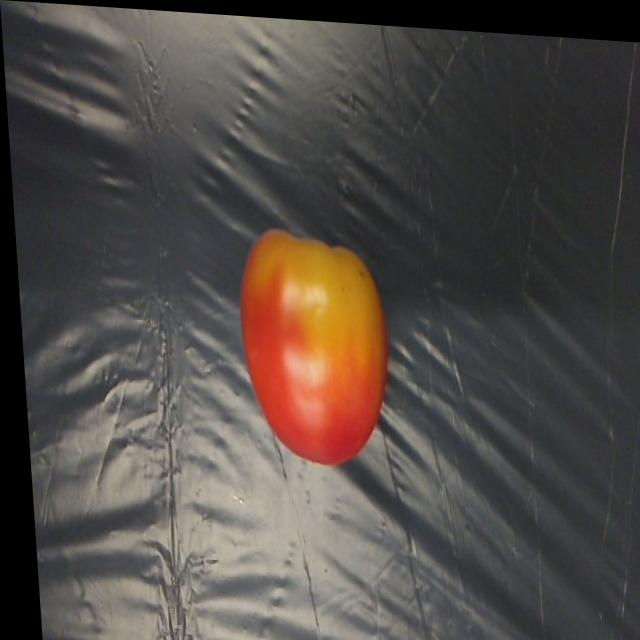sari: (219, 188, 414, 470)
